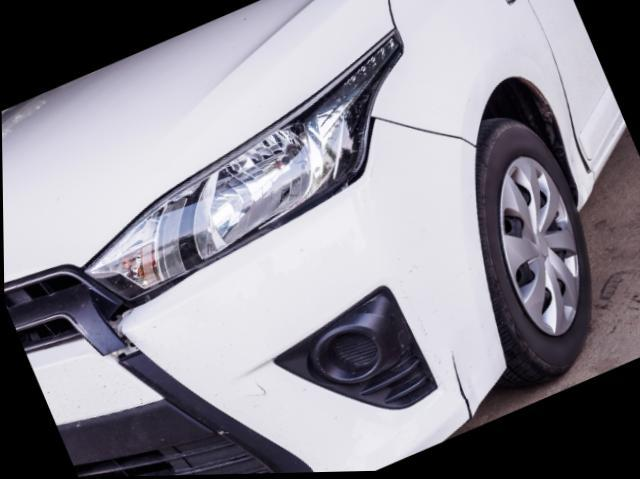crack: (450, 349, 472, 420)
